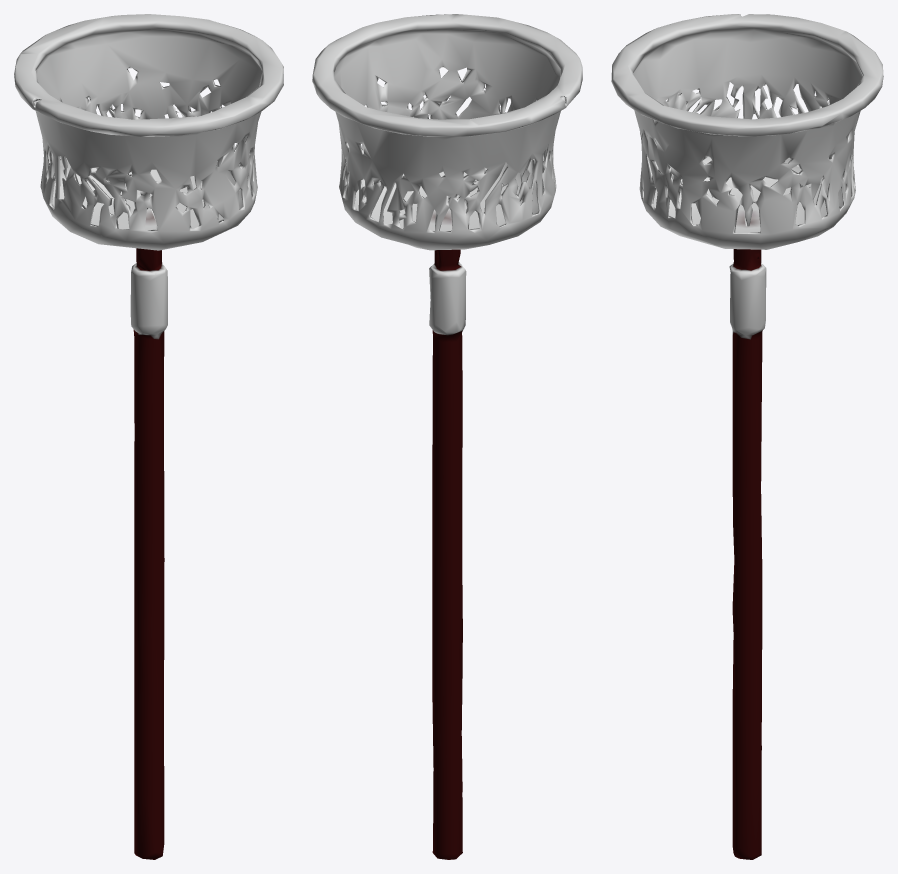
The model's file is gen3d-butterfly-net-lod0.glb.
3 views of the same model, side by side, from view 1: azimuth 30°, elevation 25°; view 2: azimuth 150°, elevation 25°; view 3: azimuth 270°, elevation 25° (orthographic).
Parts seen in each view (by area): view 1: part_0; view 2: part_0; view 3: part_0.
Boxes of the visible parts, box(x1,y1,x2,y2) form: part_0: box(14, 14, 283, 859); part_0: box(312, 14, 582, 859); part_0: box(611, 14, 883, 859).
Bounding box in the file's own units: 0.3123 × 0.9998 × 0.3141.
